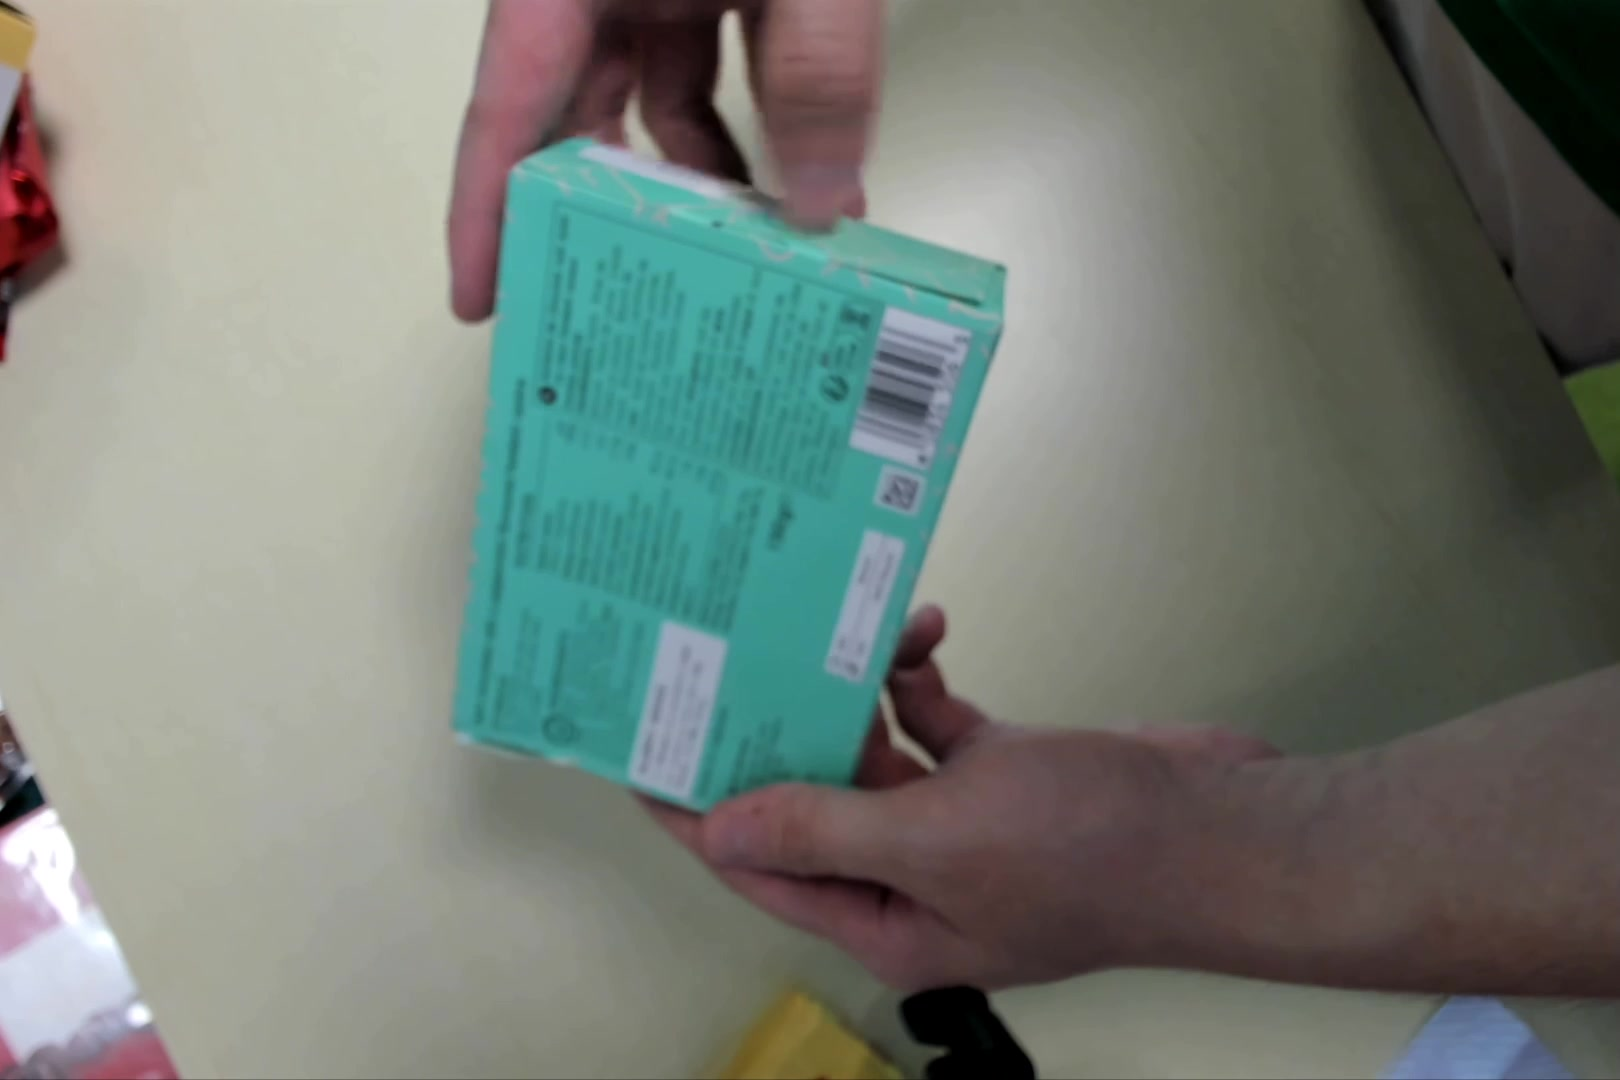SweetsChocolatesOthers_100-199g_NonHalal_NonHealthy: (452, 134, 1009, 814)
